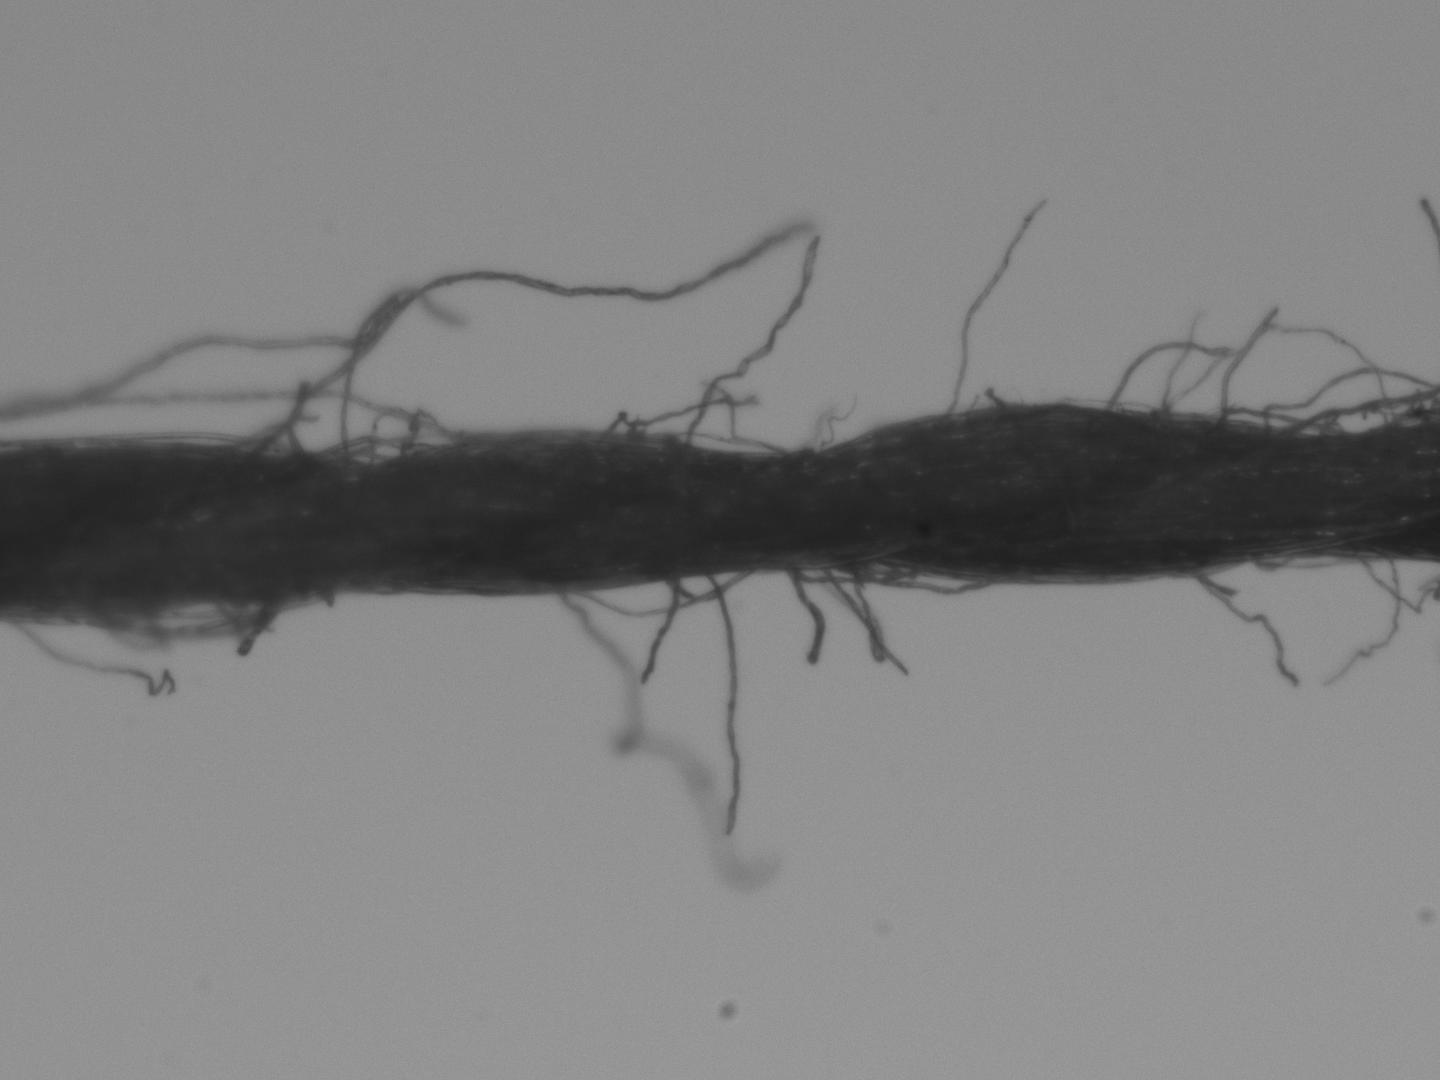loop_fiber: (58, 581, 346, 650), (295, 405, 482, 466), (569, 568, 757, 618), (782, 559, 992, 598), (638, 425, 781, 455), (1217, 403, 1329, 434), (96, 431, 268, 452), (1247, 550, 1355, 577)
protruding_fiber: (260, 214, 811, 466), (935, 192, 1044, 415), (695, 575, 744, 838), (785, 569, 823, 670)
